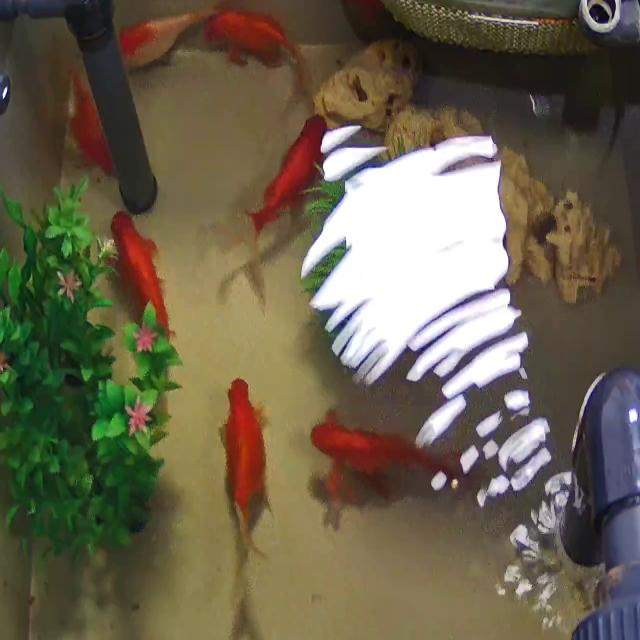fish: (310, 409, 465, 512), (210, 366, 282, 564), (104, 213, 182, 358), (246, 103, 333, 233), (206, 4, 319, 100), (68, 79, 111, 193), (115, 18, 207, 68), (328, 0, 388, 21)
